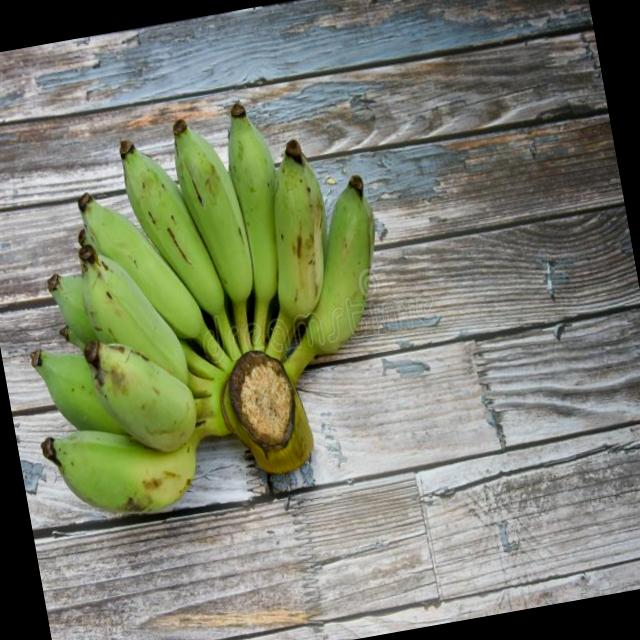Platano: (0, 73, 421, 536)
